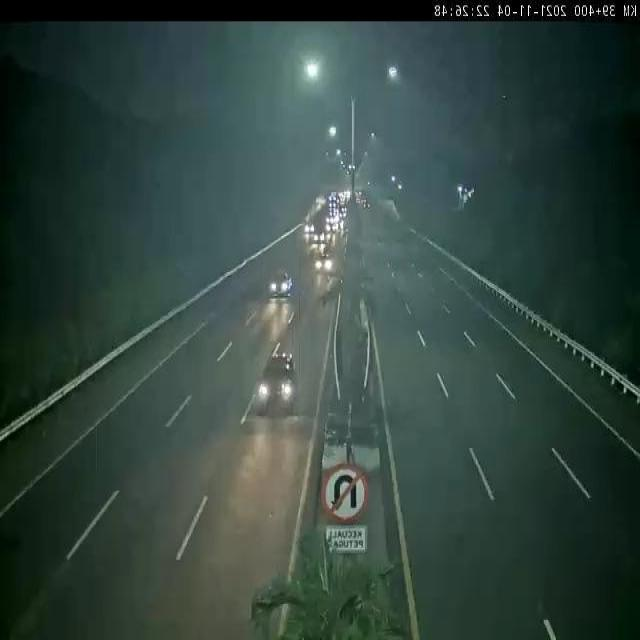Car: (245, 344, 311, 423), (263, 264, 301, 306), (312, 250, 340, 280)
